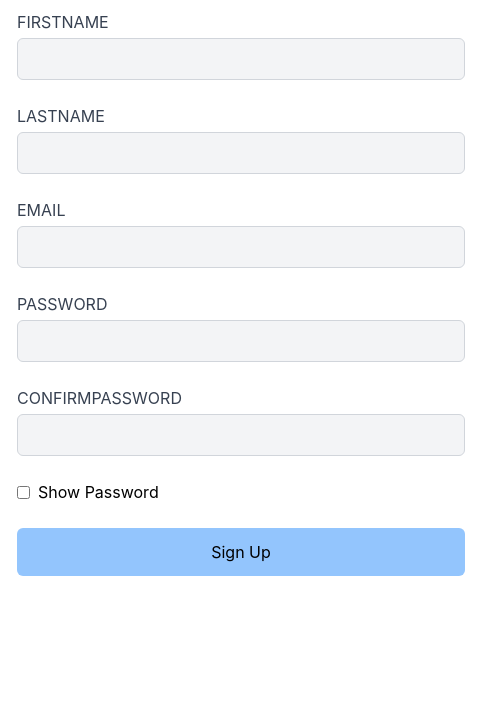
Test: validation error message is shown when form is submitted with invalid last name
This screenshot has width=483, height=714.
Step 1. Type "Test!!" into the field with test id "lastname" → point(241, 153), box [17,132,465,174]
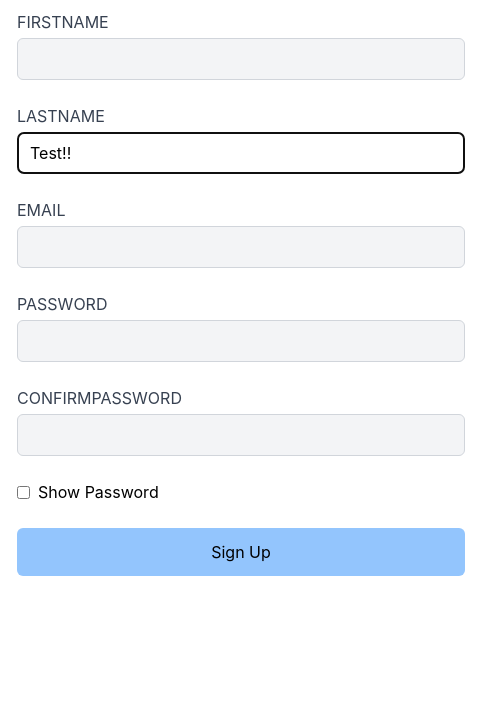
Step 2. Click the button with test id "signupbutton" → point(241, 552), box [17,528,465,576]
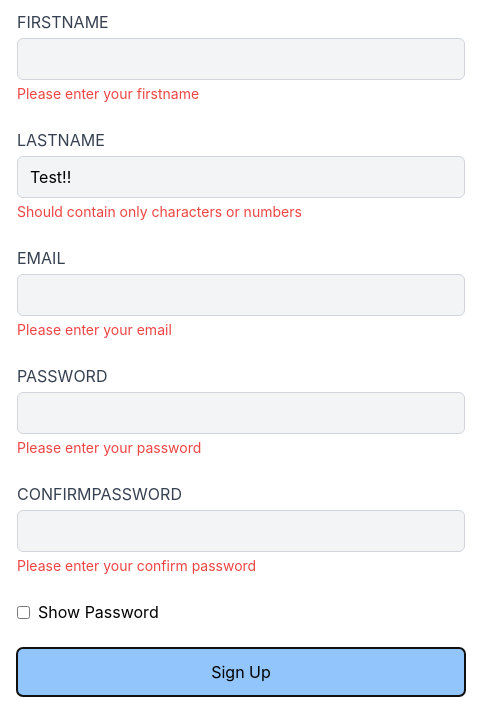
Result: the text "Should contain only characters or numbers" is shown at [17,203,302,220]
